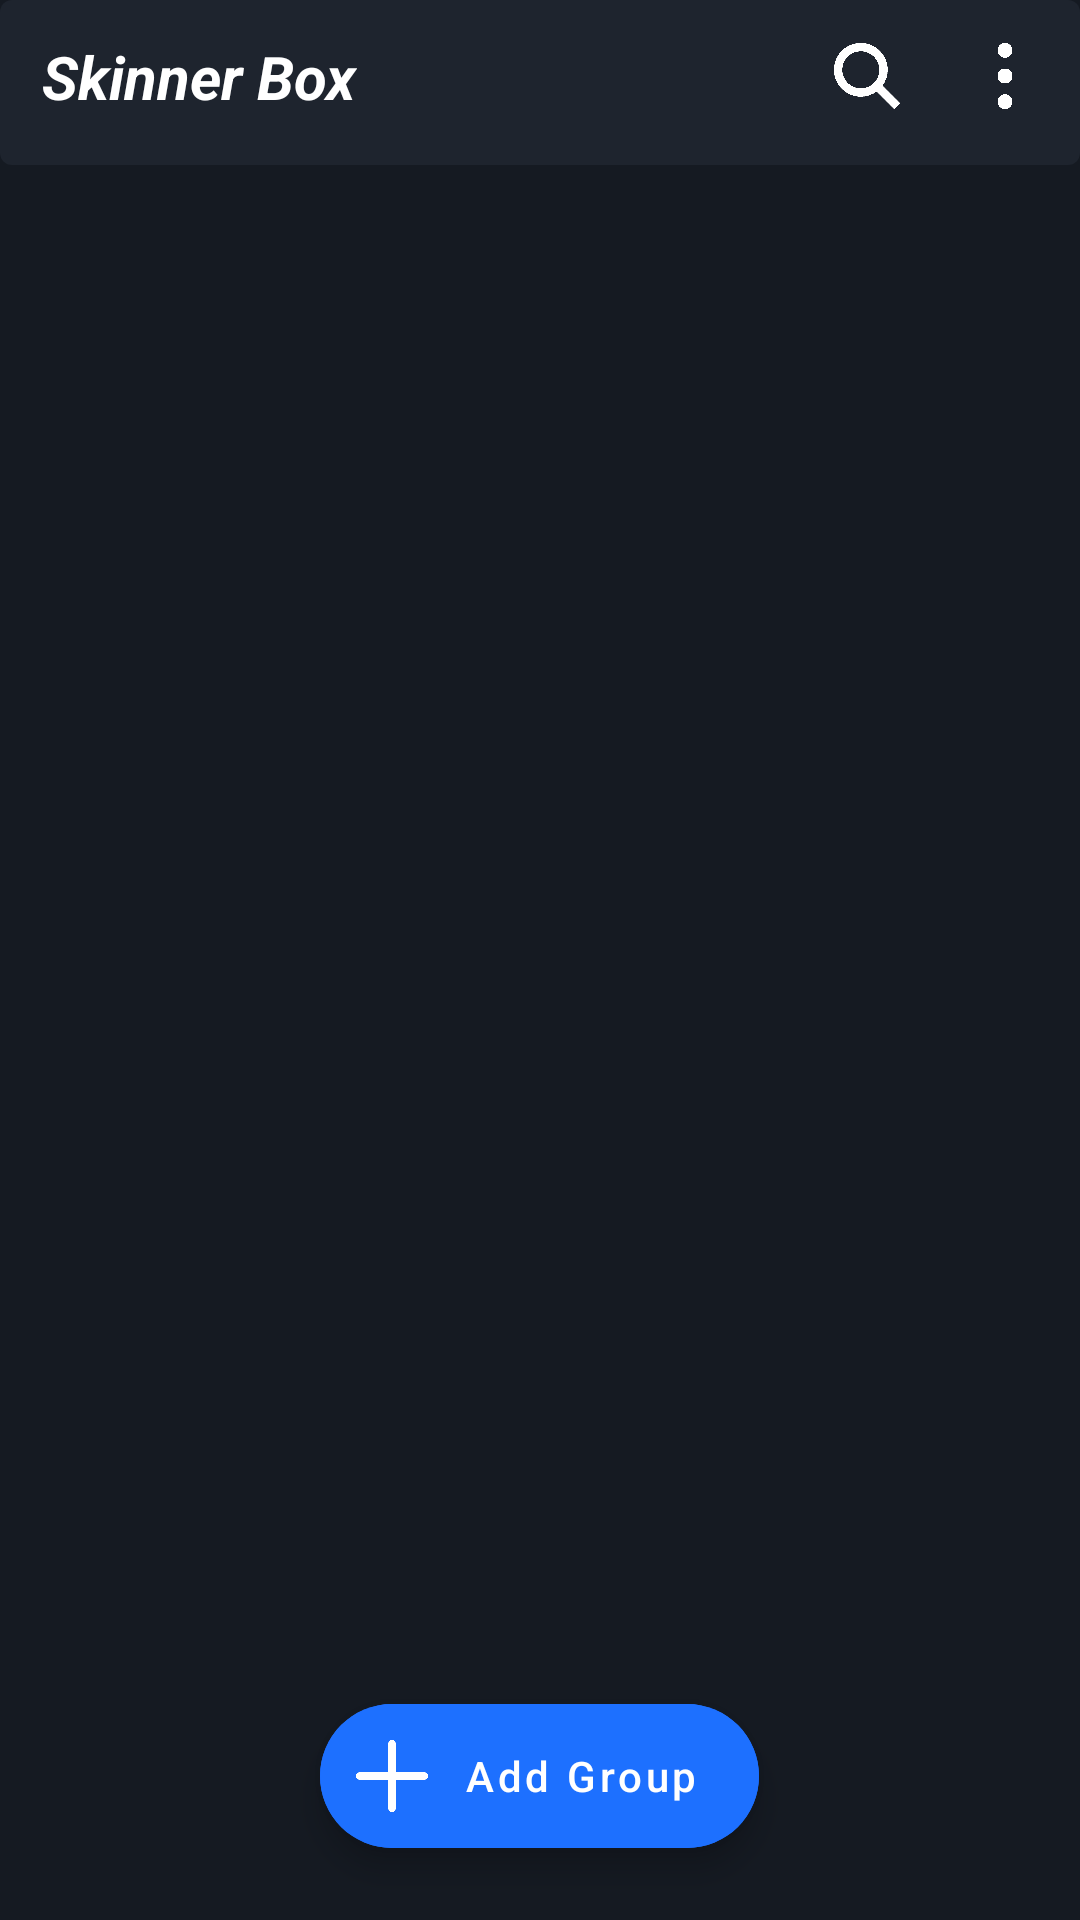

Icon click points for this 1080 × 1920 phone screenshot, format point (x, y):
more: point (1005, 76)
search group: point (867, 76)
